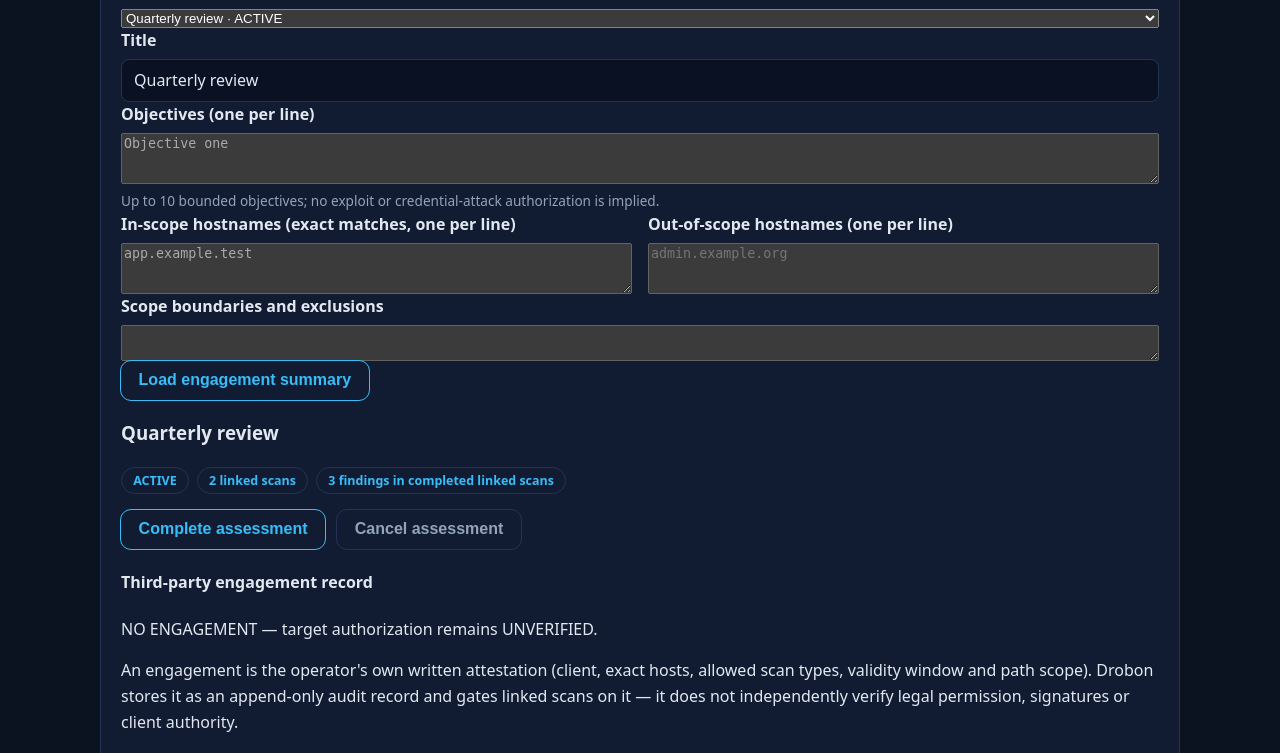
Test: professional regression and summary UI (Phase 22 Pump 3) › assessment engagement summary renders honest bounded totals
(page scrolled)
Step 1. Click the button with test id "assessment-summary-load" → (245, 380), box top-left (121, 361), bottom-right (369, 400)
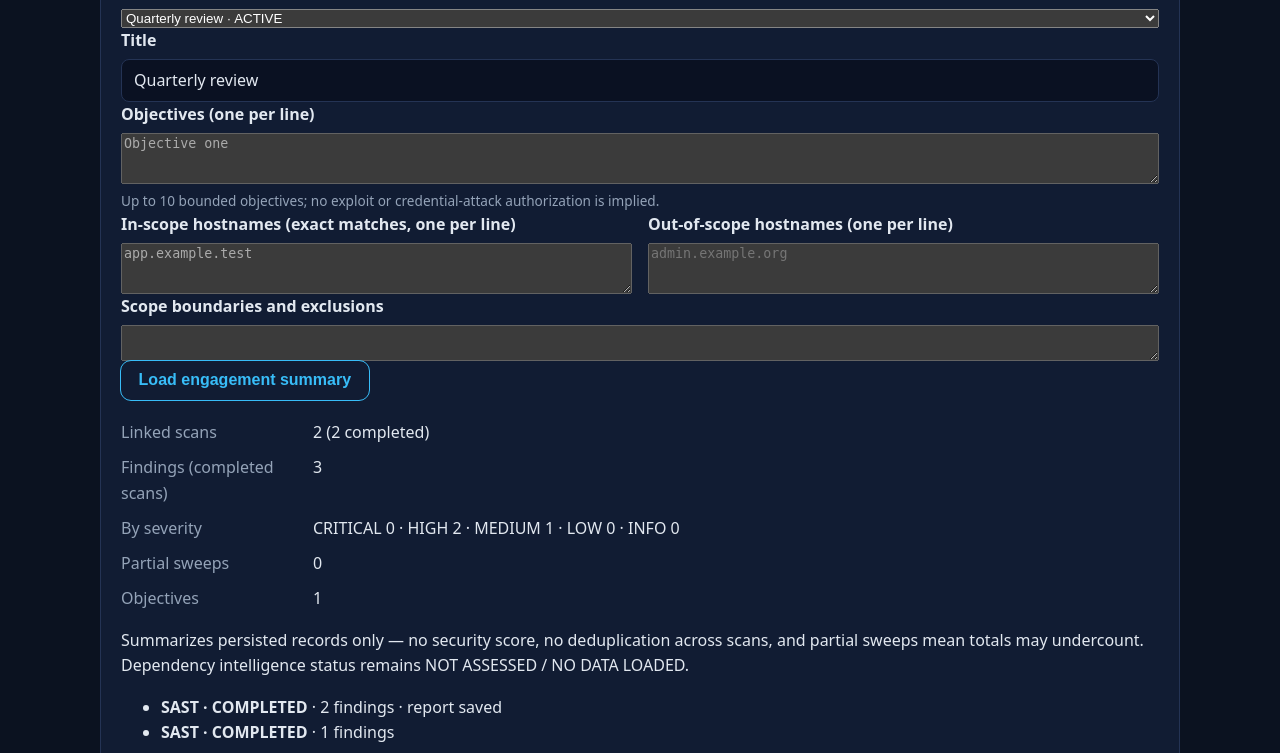
expect the element with test id "assessment-summary-content" is shown: met, box top-left (121, 420), bottom-right (1159, 746)
expect the text with test id "assessment-summary-scans" shows "2 completed": met, box top-left (313, 421), bottom-right (429, 443)
expect the text with test id "assessment-summary-findings" reads "3": met, box top-left (313, 456), bottom-right (322, 478)
